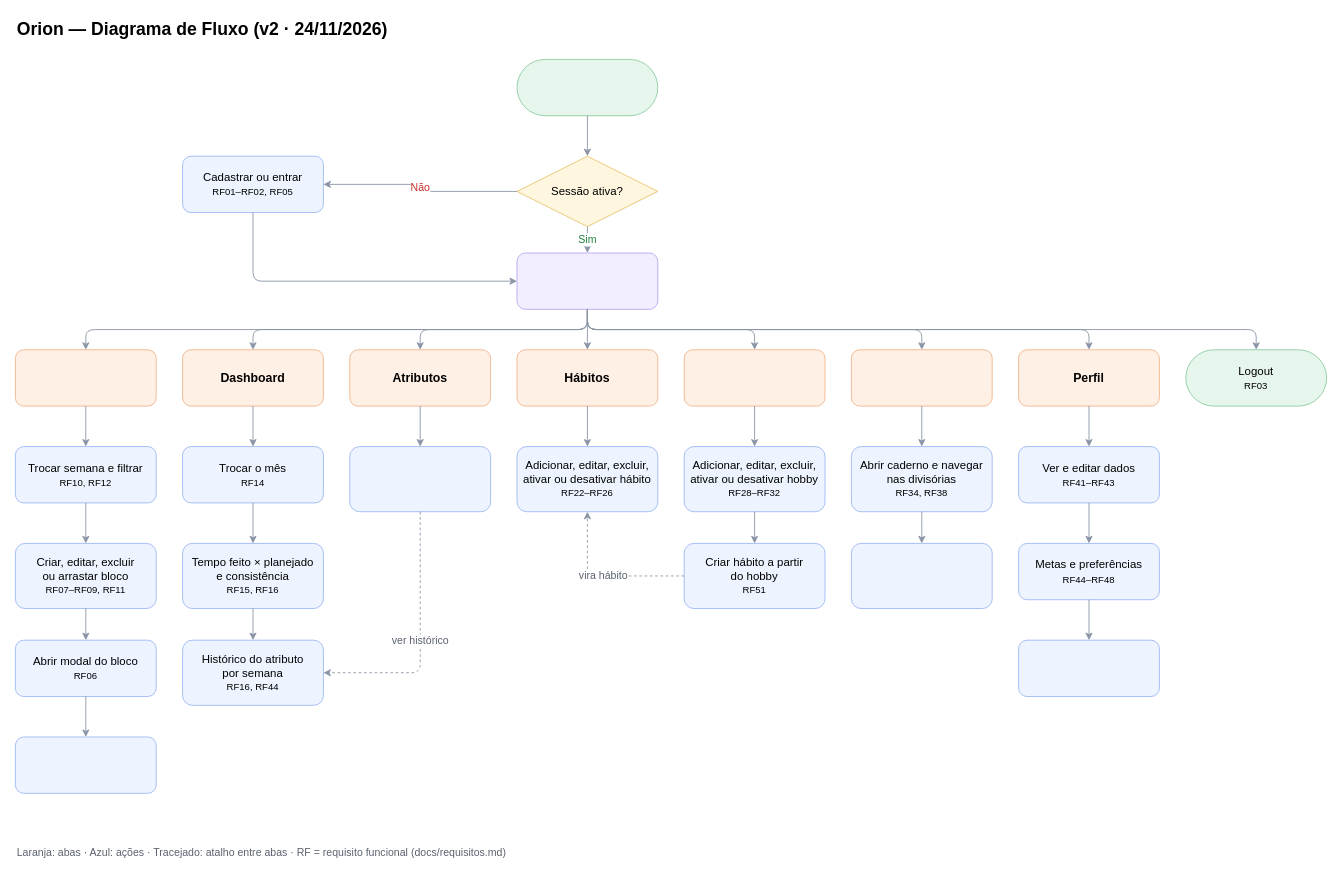
Some shapes in this 1342 by 878 pixel diagram are drawn without their labels. The shapes that lost their labels are listed below. From the top down, each one's centre as x and y in pixels, then its label:
(x=587, y=87): Abrir o Orion
(x=587, y=280): Área do usuário menu de abas
(x=85, y=377): Minha Semana
(x=754, y=377): Hobby
(x=921, y=377): Caderno
(x=420, y=479): Adicionar, editar ou excluir atributo RF18–RF20
(x=921, y=576): Criar, editar ou excluir nota e divisória RF35–RF37, RF39
(x=1088, y=668): Salvar perfil RF49
(x=85, y=764): Marcar bloco como concluído RF50
